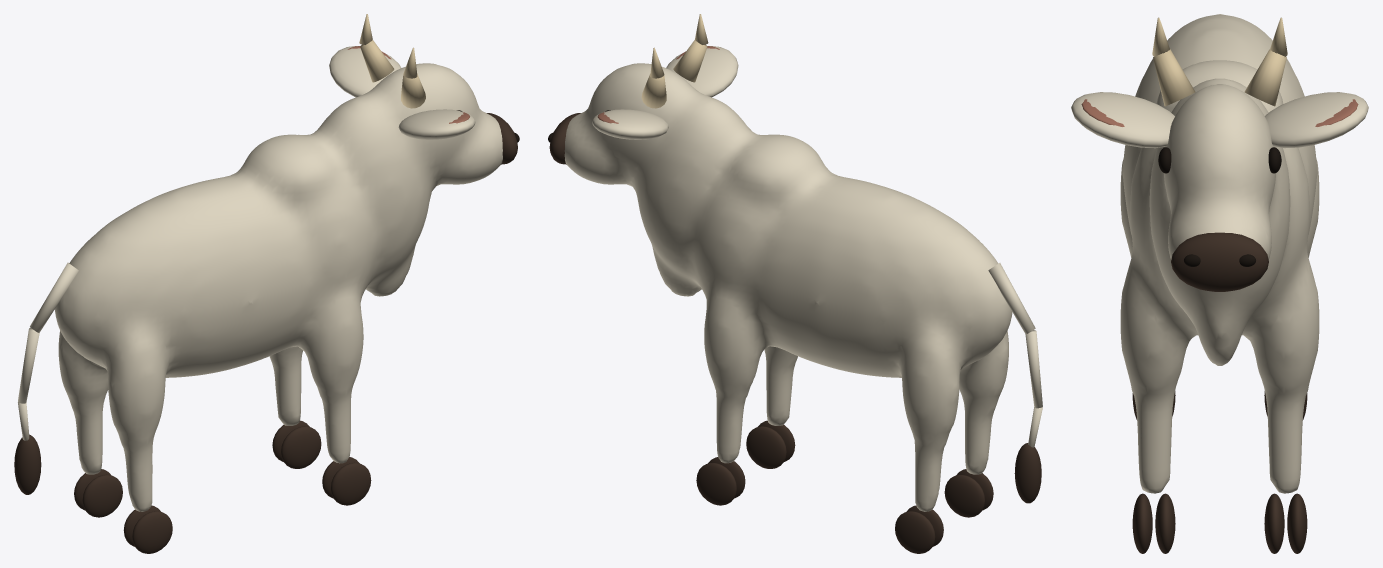
File: heifer.glb
3 renders of one model, left to right at view 1: azimuth 30°, elevation 25°; view 2: azimuth 150°, elevation 25°; view 3: azimuth 270°, elevation 25°, orthographic. The views are drawn at different scales.
Parts seen in each view (by area): view 1: Heifer - Cream body.001, Heifer - Cream Ear.002, Heifer - Cream Ear.003, Heifer - Cream Cloven hoof.008, Heifer - Cream Cloven hoof.010, Heifer - Cream Cloven hoof.012, Heifer - Cream Cloven hoof.014, Heifer - Cream Tail tuft.001, Heifer - Cream Tail.003, Heifer - Cream Horn base.003, Heifer - Cream Tail.004, Heifer - Cream Horn base.002 (+1 smaller); view 2: Heifer - Cream body.001, Heifer - Cream Ear.003, Heifer - Cream Ear.002, Heifer - Cream Cloven hoof.011, Heifer - Cream Cloven hoof.009, Heifer - Cream Cloven hoof.013, Heifer - Cream Cloven hoof.015, Heifer - Cream Tail tuft.001, Heifer - Cream Tail.003, Heifer - Cream Tail.004, Heifer - Cream Horn base.002, Heifer - Cream Horn base.003 (+1 smaller); view 3: Heifer - Cream body.001, Heifer - Cream Nose.001, Heifer - Cream Ear.002, Heifer - Cream Ear.003, Heifer - Cream Horn base.002, Heifer - Cream Horn base.003, Heifer - Cream Cloven hoof.011, Heifer - Cream Cloven hoof.014, Heifer - Cream Cloven hoof.010, Heifer - Cream Cloven hoof.015, Heifer - Cream Horn tip.002, Heifer - Cream Horn tip.003 (+2 smaller).
Part boxes in pixels (left/top/right/bottom): Heifer - Cream body.001: left=54, top=63, right=502, bottom=511; Heifer - Cream Ear.002: left=398, top=109, right=475, bottom=139; Heifer - Cream Ear.003: left=329, top=46, right=401, bottom=97; Heifer - Cream Cloven hoof.008: left=132, top=511, right=172, bottom=553; Heifer - Cream Cloven hoof.010: left=330, top=462, right=371, bottom=505; Heifer - Cream Cloven hoof.012: left=82, top=474, right=122, bottom=517; Heifer - Cream Cloven hoof.014: left=281, top=426, right=321, bottom=468; Heifer - Cream Tail tuft.001: left=14, top=434, right=41, bottom=494; Heifer - Cream Tail.003: left=30, top=262, right=78, bottom=332; Heifer - Cream Horn base.003: left=360, top=40, right=394, bottom=82; Heifer - Cream Tail.004: left=18, top=327, right=39, bottom=403; Heifer - Cream Horn base.002: left=401, top=74, right=425, bottom=108; Heifer - Cream body.001: left=564, top=63, right=1012, bottom=511; Heifer - Cream Ear.003: left=592, top=109, right=668, bottom=139; Heifer - Cream Ear.002: left=666, top=46, right=738, bottom=97; Heifer - Cream Cloven hoof.011: left=746, top=426, right=786, bottom=468; Heifer - Cream Cloven hoof.009: left=944, top=474, right=984, bottom=517; Heifer - Cream Cloven hoof.013: left=895, top=511, right=935, bottom=553; Heifer - Cream Cloven hoof.015: left=696, top=463, right=736, bottom=505; Heifer - Cream Tail tuft.001: left=1014, top=443, right=1041, bottom=503; Heifer - Cream Tail.003: left=988, top=263, right=1035, bottom=333; Heifer - Cream Tail.004: left=1025, top=330, right=1042, bottom=408; Heifer - Cream Horn base.002: left=673, top=40, right=707, bottom=82; Heifer - Cream Horn base.003: left=641, top=74, right=666, bottom=108; Heifer - Cream body.001: left=1120, top=14, right=1319, bottom=493; Heifer - Cream Nose.001: left=1171, top=232, right=1268, bottom=291; Heifer - Cream Ear.002: left=1071, top=92, right=1174, bottom=148; Heifer - Cream Ear.003: left=1265, top=92, right=1368, bottom=148; Heifer - Cream Horn base.002: left=1153, top=49, right=1195, bottom=106; Heifer - Cream Horn base.003: left=1244, top=49, right=1286, bottom=106; Heifer - Cream Cloven hoof.011: left=1155, top=493, right=1175, bottom=553; Heifer - Cream Cloven hoof.014: left=1264, top=493, right=1284, bottom=553; Heifer - Cream Cloven hoof.010: left=1132, top=493, right=1152, bottom=553; Heifer - Cream Cloven hoof.015: left=1287, top=493, right=1307, bottom=553; Heifer - Cream Horn tip.002: left=1152, top=17, right=1169, bottom=56; Heifer - Cream Horn tip.003: left=1270, top=17, right=1287, bottom=56.
Bounding box in the file's own units: 2.09 × 1.79 × 0.8349.
